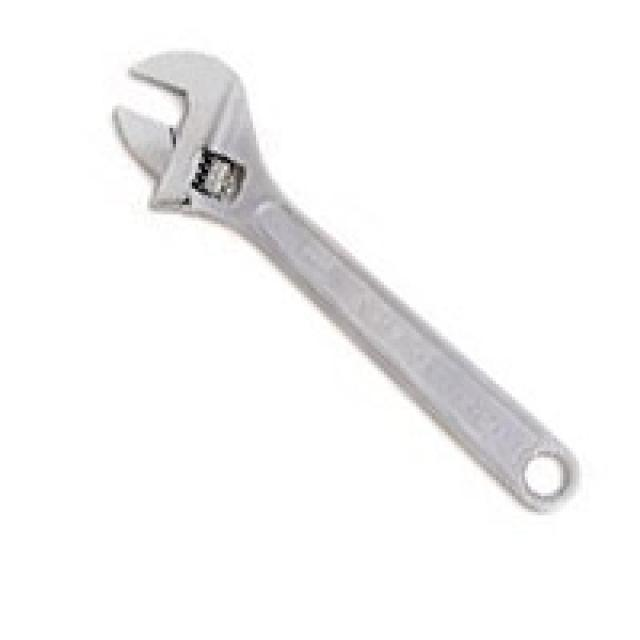wrench: (108, 36, 580, 522)
